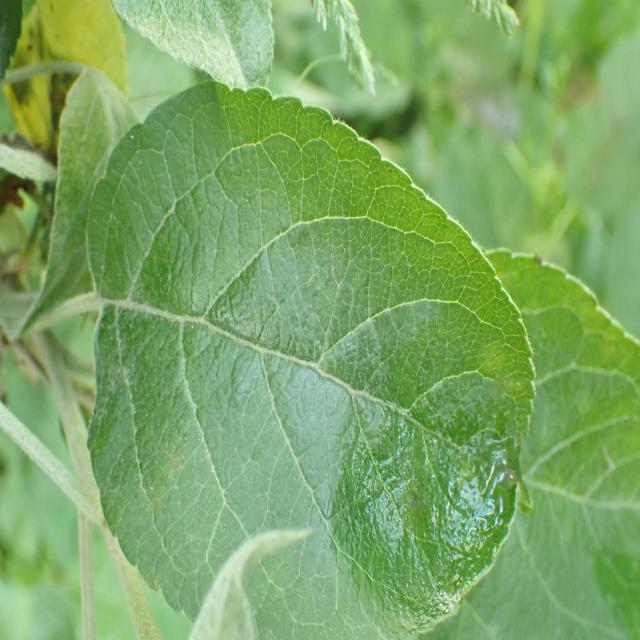scab: (114, 132, 523, 612)
